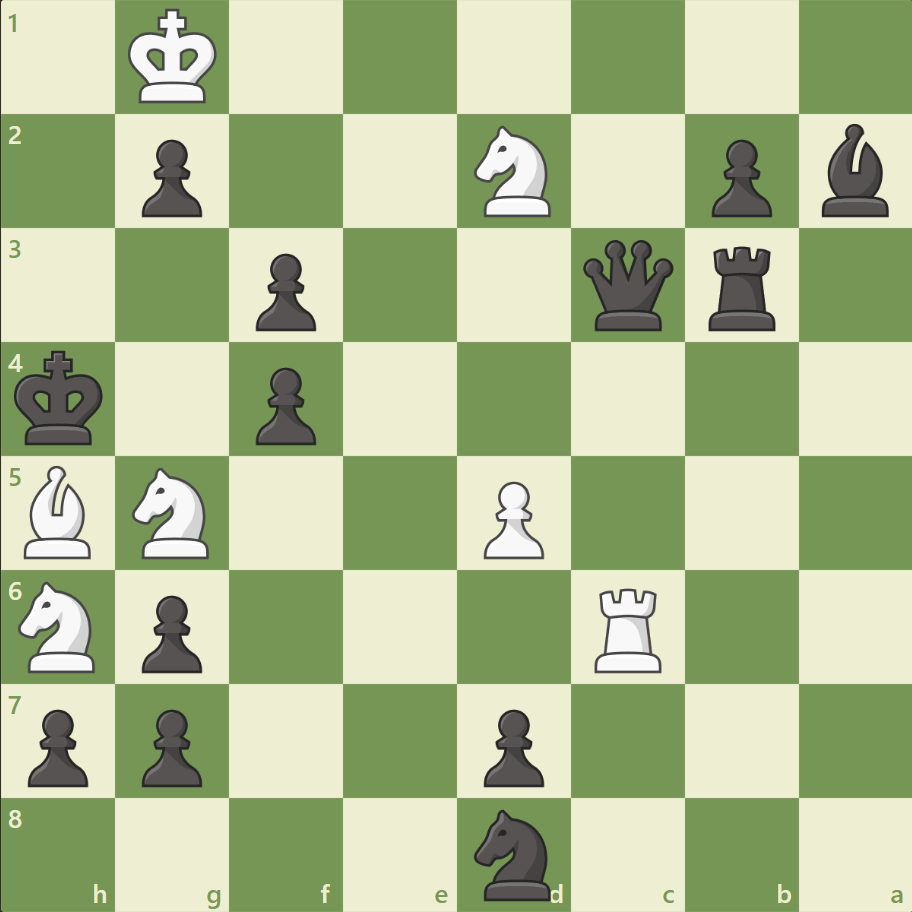B: (17, 460, 101, 563)
K: (124, 4, 224, 112)
N: (124, 461, 222, 564), (11, 575, 108, 677), (465, 121, 562, 223)
P: (474, 473, 549, 564)
R: (587, 579, 670, 676)
b: (812, 120, 896, 222)
k: (11, 344, 111, 452)
n: (465, 802, 562, 904)
p: (474, 700, 549, 791), (133, 700, 208, 791), (20, 700, 95, 791), (133, 586, 208, 677), (247, 359, 322, 450), (247, 246, 322, 337), (701, 132, 776, 223), (133, 132, 208, 223)
q: (578, 236, 677, 335)
r: (700, 239, 783, 336)
